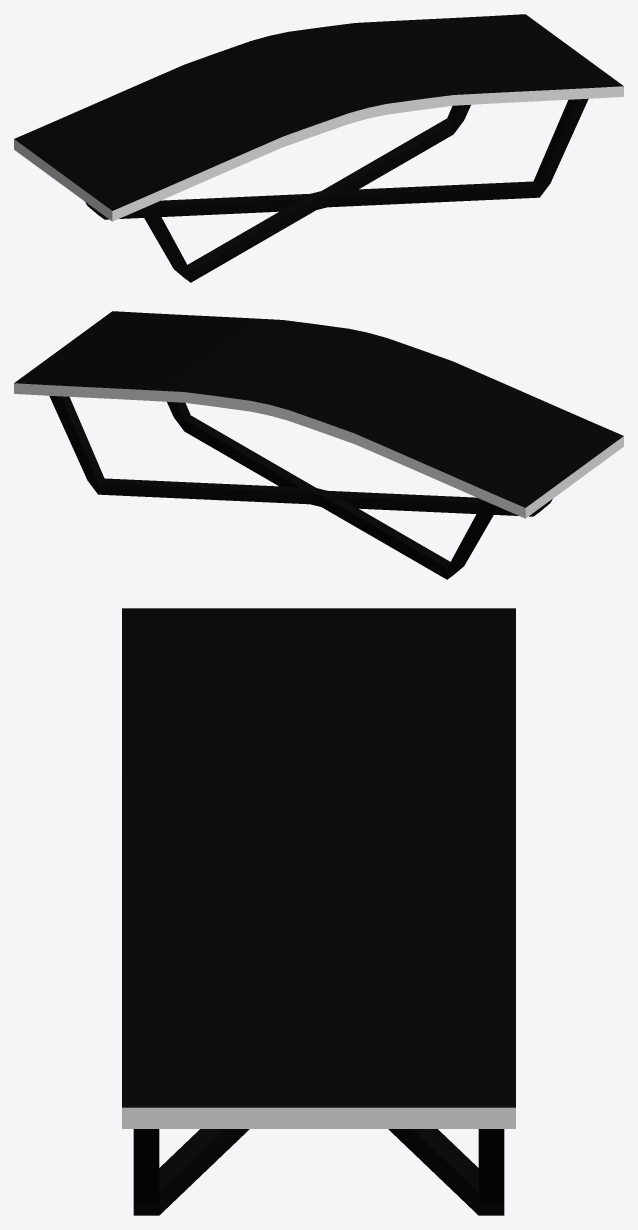
File: Platform.fbx
3 renders of one model, top to bottom at view 1: azimuth 30°, elevation 25°; view 2: azimuth 150°, elevation 25°; view 3: azimuth 270°, elevation 25°, orthographic. The views are drawn at different scales.
Visible parts, largest first — view 1: Cube; view 2: Cube; view 3: Cube.
Boxes of the visible parts, x1,y1,x2,y2 form: Cube: (14, 14, 623, 282); Cube: (14, 311, 623, 579); Cube: (122, 608, 515, 1215).
Size of the model in its own units: 6 by 1.51 by 2.
